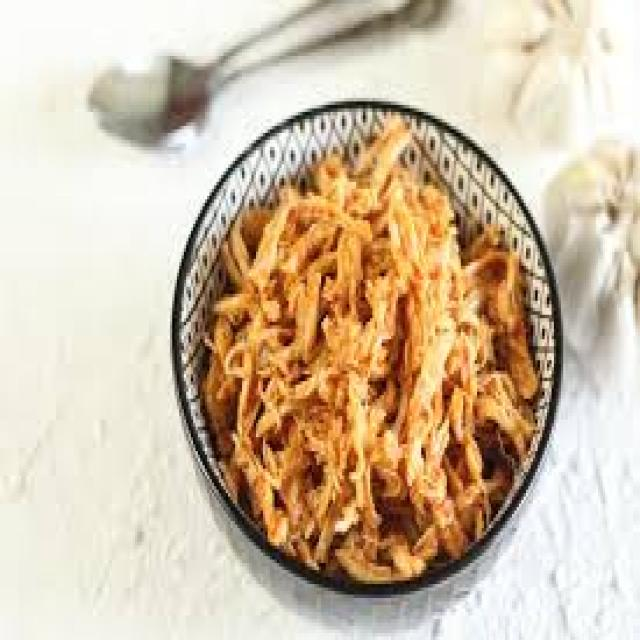ayam_suwir: (196, 142, 530, 590)
